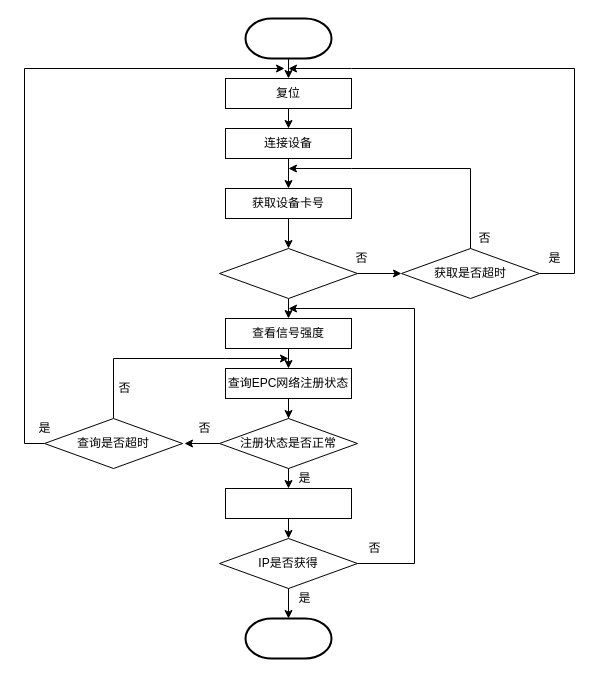
Some shapes in this 600 by 676 pixel diagram are drawn without their labels. Here are the shapes that lost their labels. From the top down, the centre of each, then its label:
the point at 288,38: 开始
the point at 288,273: 获取卡号是否成功
the point at 288,503: 获取IP地址
the point at 288,638: 结束
